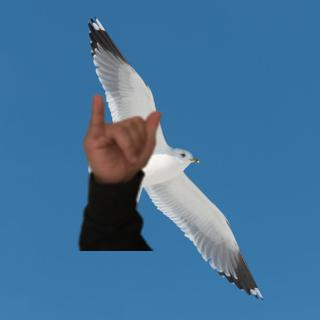HAVE: (72, 88, 168, 186)
